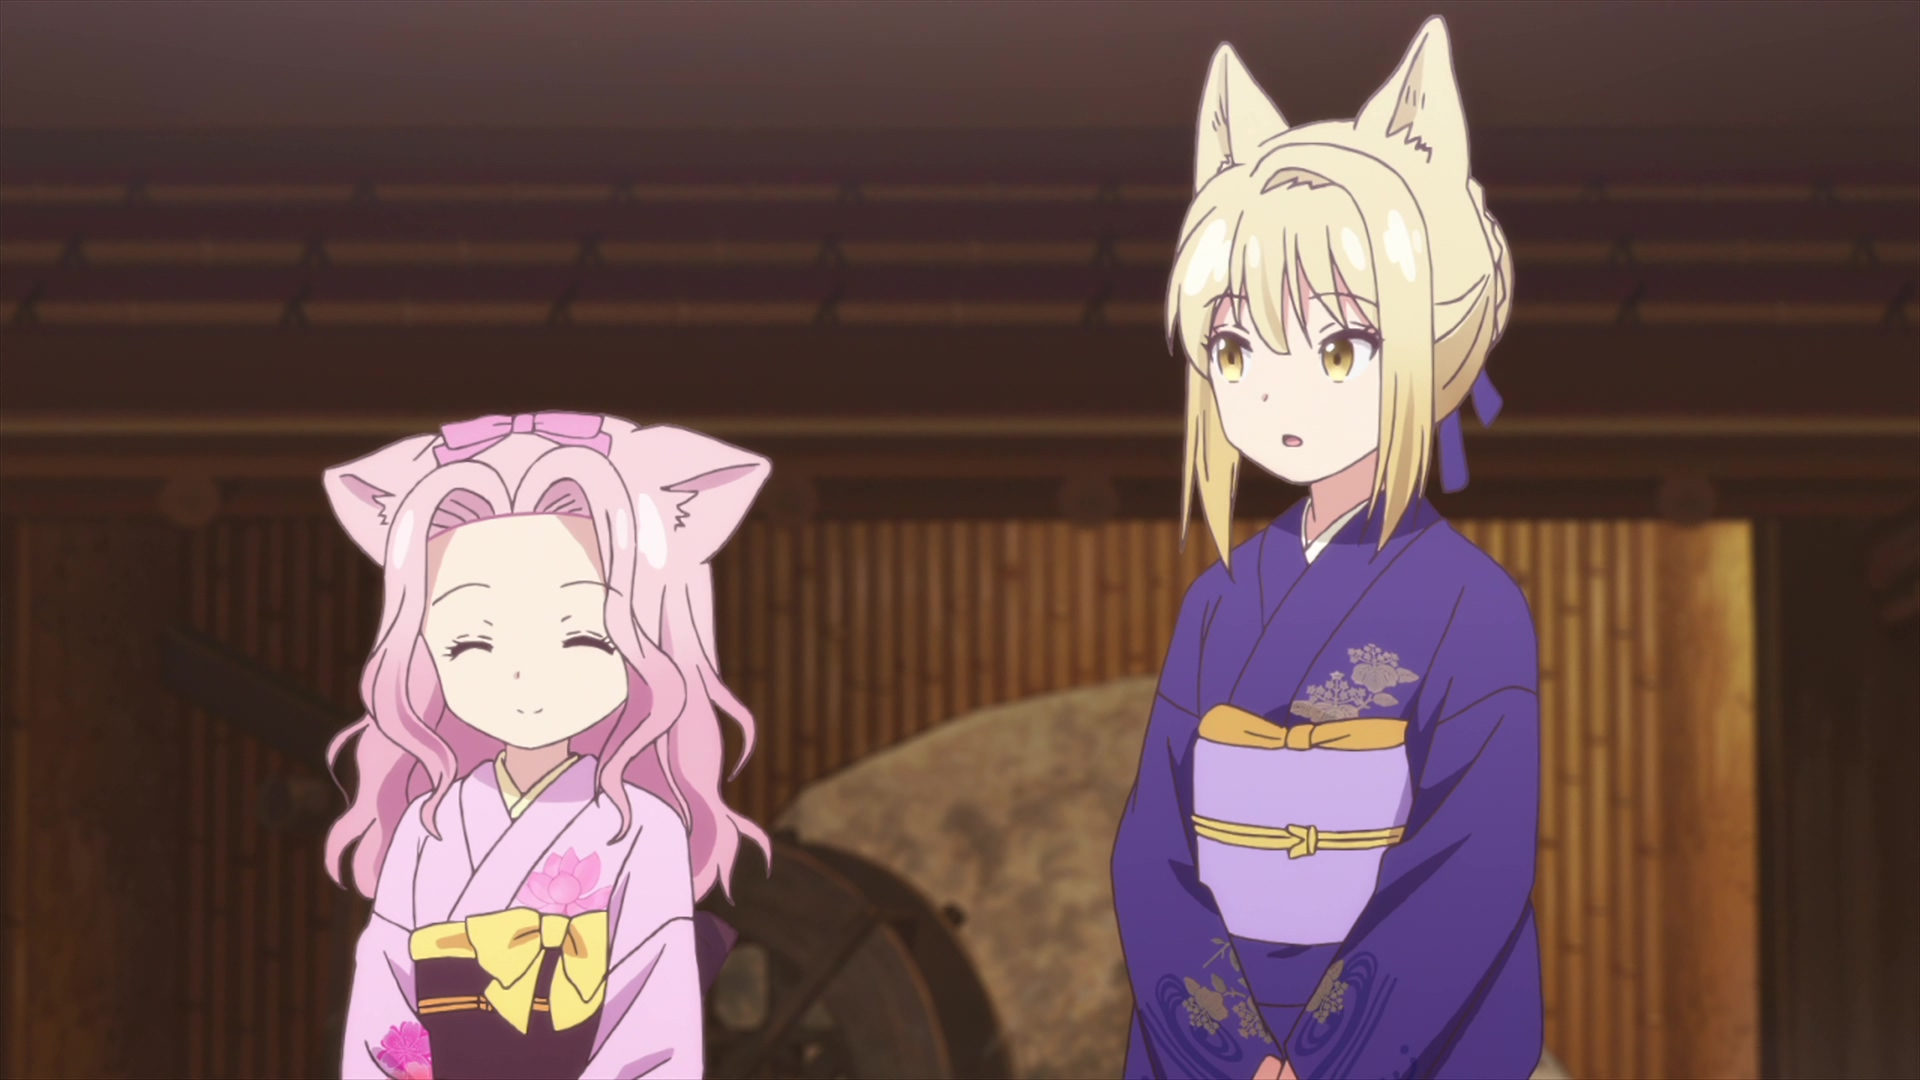桐: (1114, 16, 1545, 1080)
莲: (320, 411, 771, 1080)
